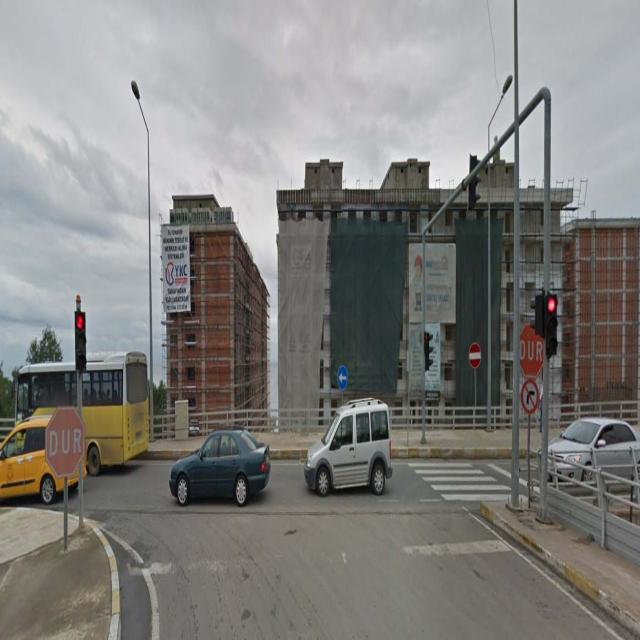dur: (44, 411, 84, 477), (519, 322, 543, 376)
kirmizi: (545, 294, 557, 358), (76, 312, 87, 373)
sagadonulmez: (522, 380, 540, 414)
